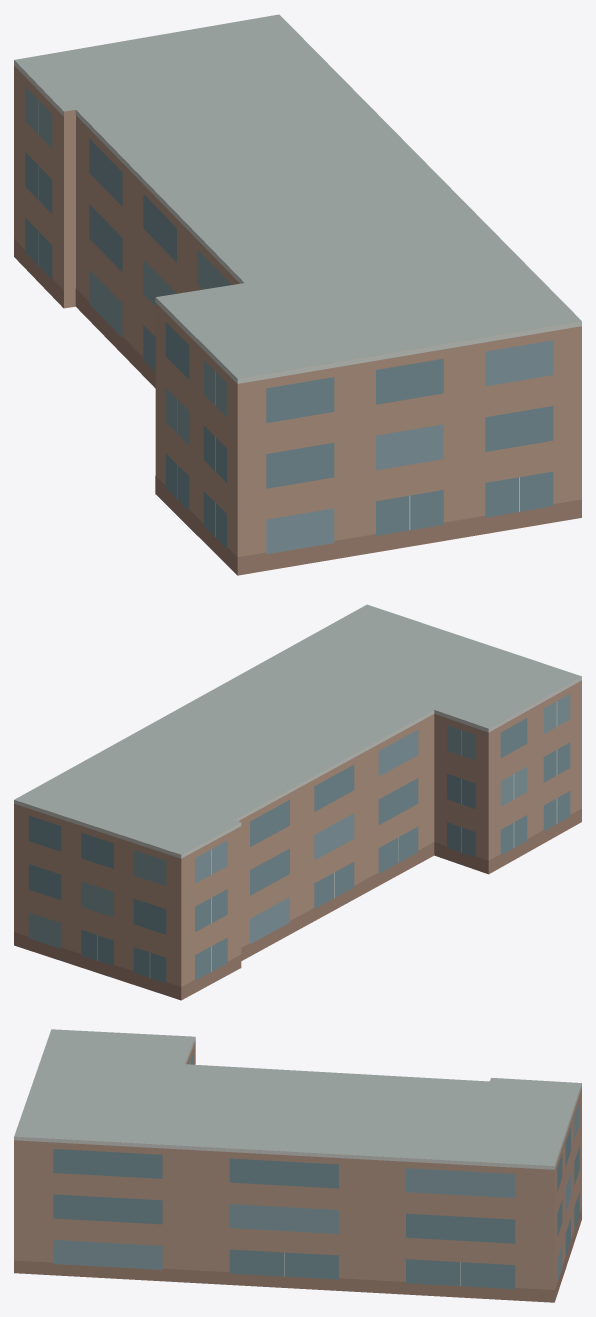
The model's file is survey-upis-33018743.glb.
3 renders of one model, top to bottom at view 1: azimuth 30°, elevation 25°; view 2: azimuth 150°, elevation 25°; view 3: azimuth 270°, elevation 25°, orthographic. The views are drawn at different scales.
Parts seen in each view (by area): view 1: survey-upis-33018743.tmp; view 2: survey-upis-33018743.tmp; view 3: survey-upis-33018743.tmp.
Boxes of the visible parts, x1,y1,x2,y2 form: survey-upis-33018743.tmp: [14, 14, 581, 575]; survey-upis-33018743.tmp: [14, 604, 581, 1000]; survey-upis-33018743.tmp: [14, 1029, 581, 1302].
Bounding box in the file's own units: 19.69 × 9.15 × 34.5.
